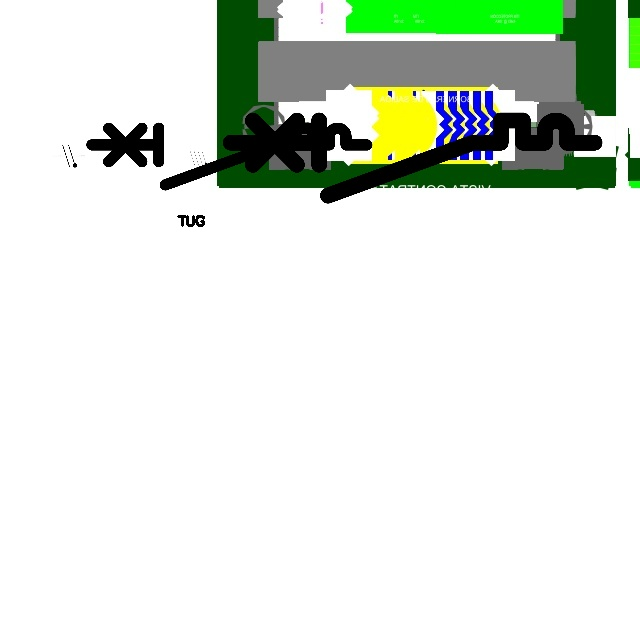interruptor_termomagnetico: (221, 111, 604, 204), (84, 121, 374, 192)
